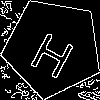H: (27, 22, 81, 80)
